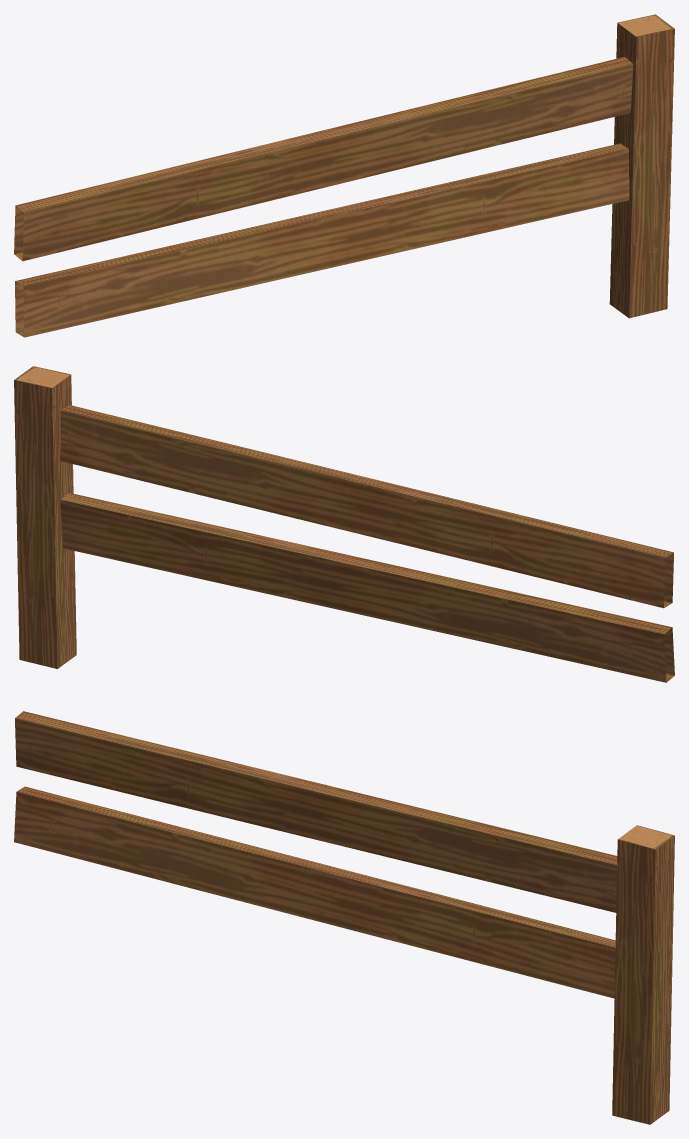
The model's file is Prop_WoodenFence_Extension2.glb.
3 renders of one model, top to bottom at view 1: azimuth 30°, elevation 25°; view 2: azimuth 150°, elevation 25°; view 3: azimuth 330°, elevation 25°, orthographic.
Visible parts, largest first — view 1: Prop_WoodenFence_Extension2; view 2: Prop_WoodenFence_Extension2; view 3: Prop_WoodenFence_Extension2.
Part boxes in pixels (x1=…): Prop_WoodenFence_Extension2: x1=14, y1=14, x2=674, y2=337; Prop_WoodenFence_Extension2: x1=14, y1=366, x2=674, y2=682; Prop_WoodenFence_Extension2: x1=14, y1=711, x2=674, y2=1124.
Bounding box in the file's own units: 2.03 × 0.8382 × 0.1104.
Materials: 1 (1 with a texture image).
